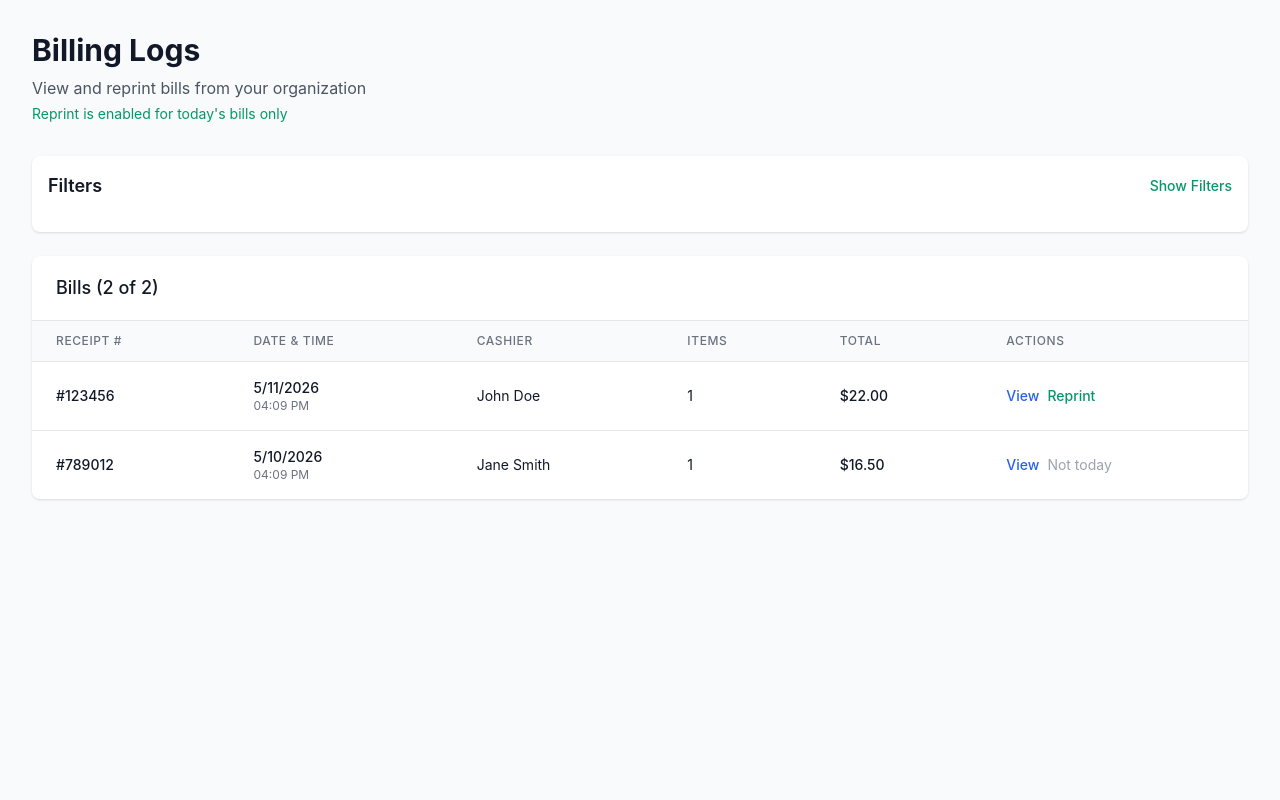
BillingLogsPage › displays organization name in Bill Details popup
Wait for View button to appear and click the first one
Click the button "View" in the row of "123456": x=1023, y=396 [1006,386,1039,406]
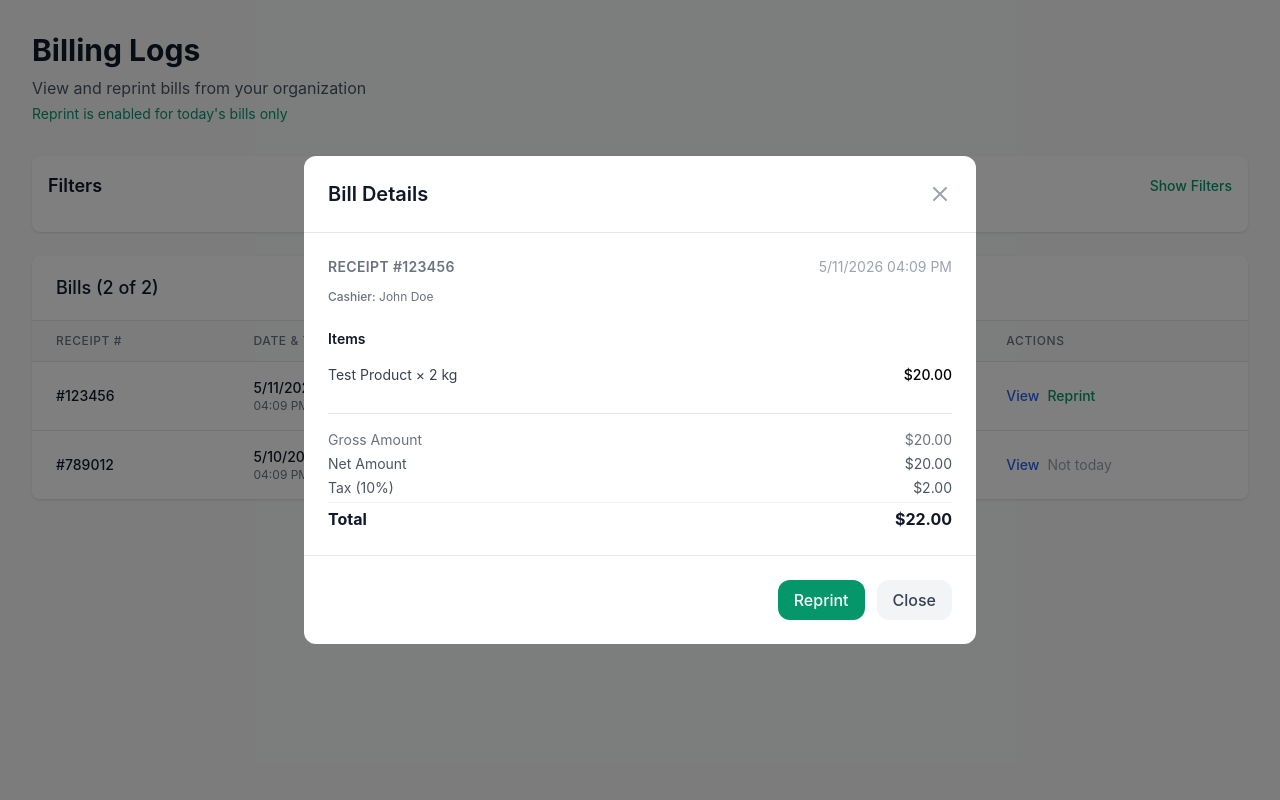
Expected: the text "#123456" is shown, [32,362,230,430]
Expected: the heading "Bill Details" is shown, [328,180,428,208]
